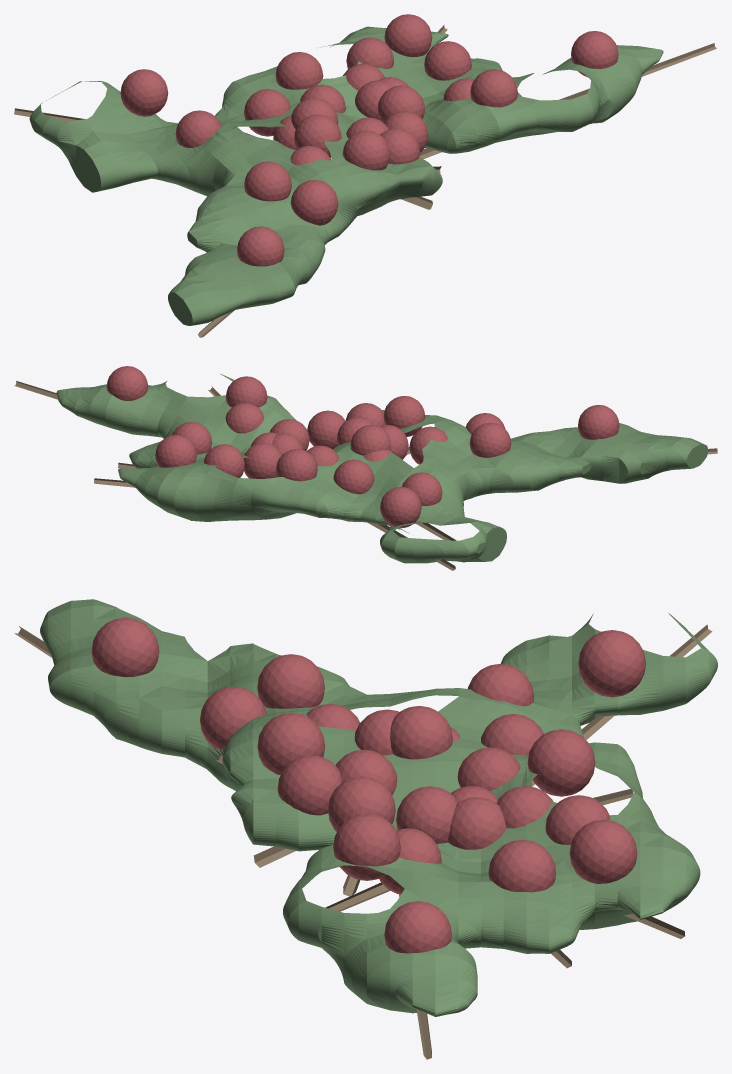
Rendered from taiga_cranberry.glb.
The picture shows the model from 3 angles, top to bottom: view 1: azimuth 30°, elevation 25°; view 2: azimuth 150°, elevation 25°; view 3: azimuth 270°, elevation 25°; orthographic projection. The views are drawn at different scales.
Parts seen in each view (by area): view 1: taiga_cranberry; view 2: taiga_cranberry; view 3: taiga_cranberry.
Part boxes in pixels (x1,y1,x2,y2): taiga_cranberry: (14,14,716,337); taiga_cranberry: (14,366,717,570); taiga_cranberry: (14,599,717,1059).
Size of the model in its own units: 2.08 by 0.2945 by 1.35.
